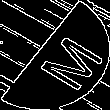M_NW: (15, 21, 95, 89)
